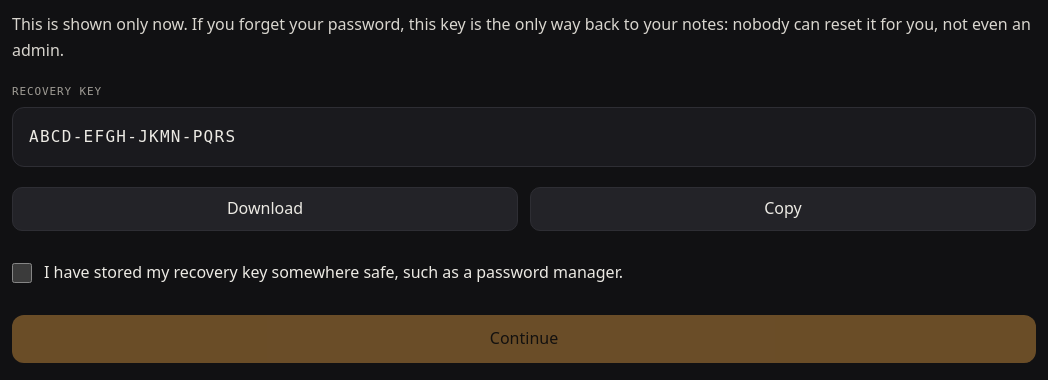
Test case: RecoveryKeyReveal › downloads the key from a blob URL that is revoked right after
Click the button "Download": (265, 209) [12,187,518,231]
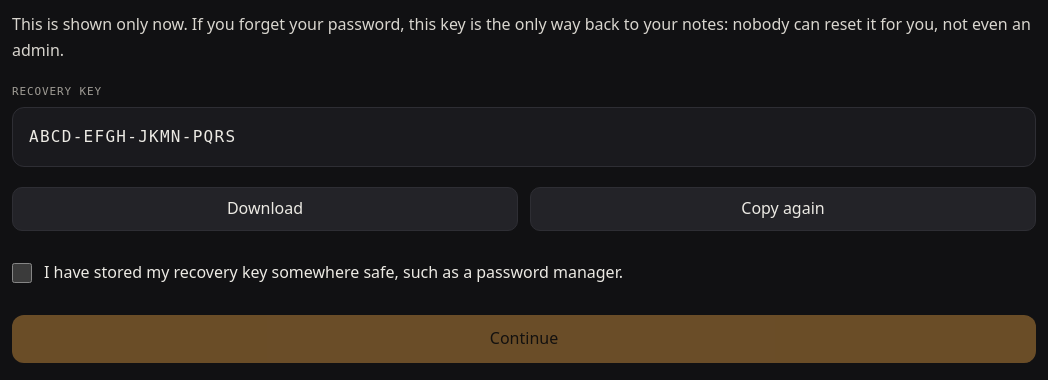
Click the checkbox labelled "I have stored my recovery key": (22, 273) [12,263,32,283]
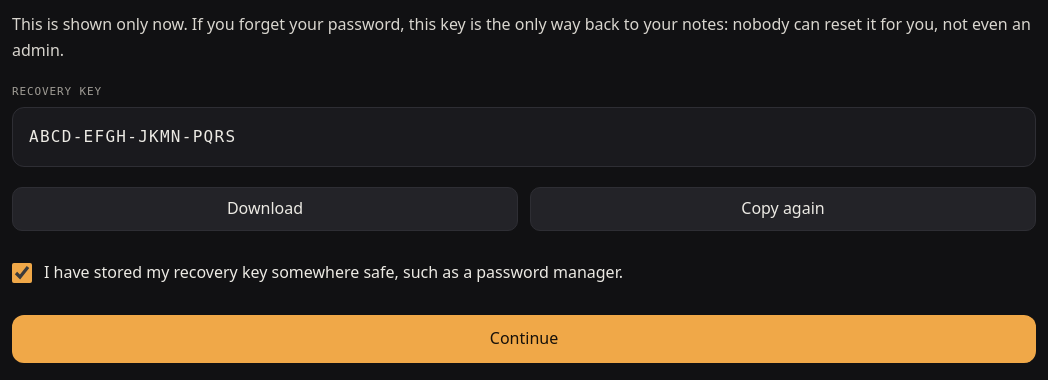
expect the button "Continue" is enabled: met, box [12,315,1036,363]
